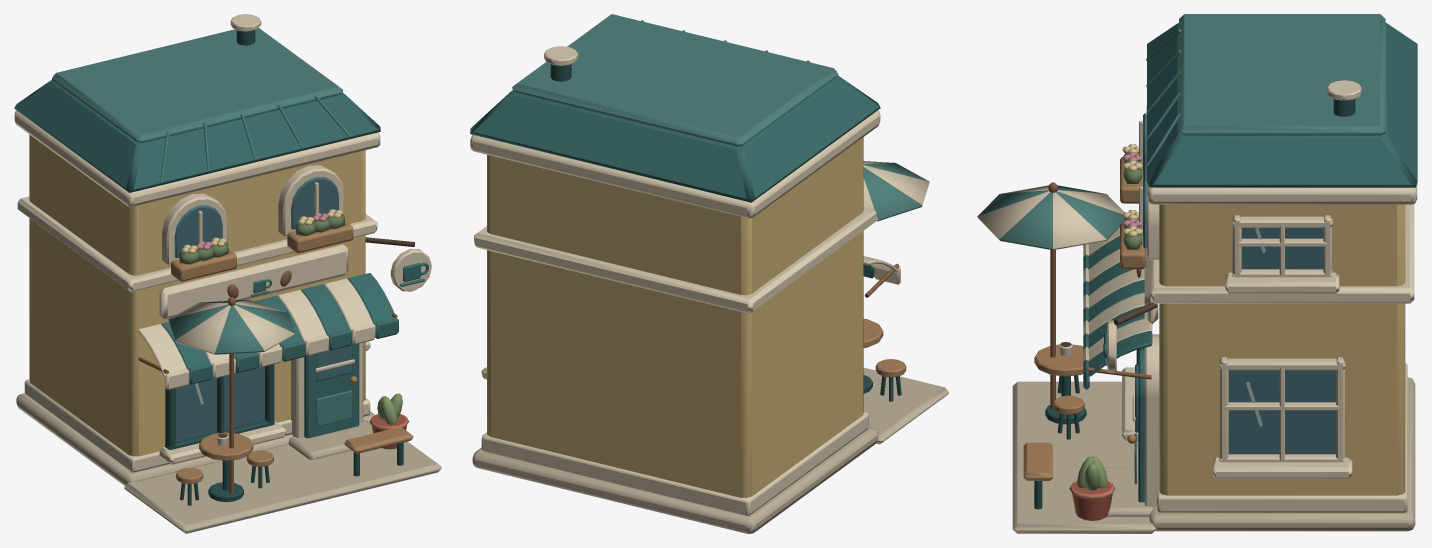
The model's file is cafe_level_3.glb.
3 renders of one model, left to right at view 1: azimuth 30°, elevation 25°; view 2: azimuth 150°, elevation 25°; view 3: azimuth 270°, elevation 25°, orthographic. The views are drawn at different scales.
Parts seen in each view (by area): view 1: cafe_level_3_runtime; view 2: cafe_level_3_runtime; view 3: cafe_level_3_runtime.
Boxes of the visible parts, box(x1,y1,x2,y2) form: cafe_level_3_runtime: box(14, 14, 441, 533); cafe_level_3_runtime: box(470, 14, 948, 533); cafe_level_3_runtime: box(977, 14, 1417, 533).
Bounding box in the file's own units: 3.92 × 4.69 × 4.47.
